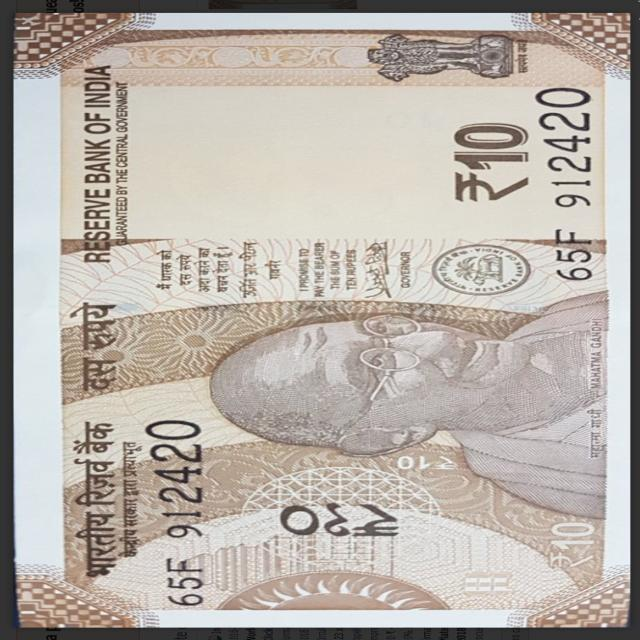10IndianRupees: (19, 14, 630, 624)
